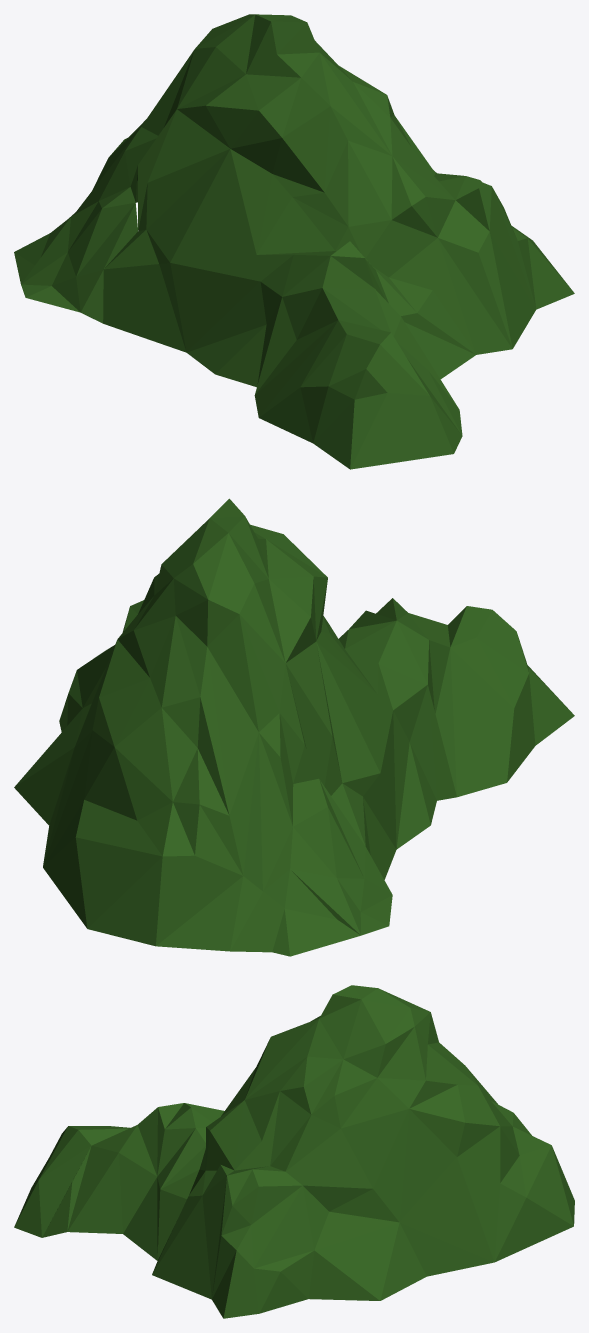
File: green mountain.FBX
3 views of the same model, one above another, from view 1: azimuth 30°, elevation 25°; view 2: azimuth 150°, elevation 25°; view 3: azimuth 270°, elevation 25° (orthographic). The views are drawn at different scales.
Visible parts, largest first — view 1: Mountain_Grass_01; view 2: Mountain_Grass_01; view 3: Mountain_Grass_01.
Part boxes in pixels (x1,y1,x2,y2): Mountain_Grass_01: [14, 14, 574, 469]; Mountain_Grass_01: [14, 498, 574, 956]; Mountain_Grass_01: [14, 985, 574, 1318].
Bounding box in the file's own units: 651 × 430 × 879.
